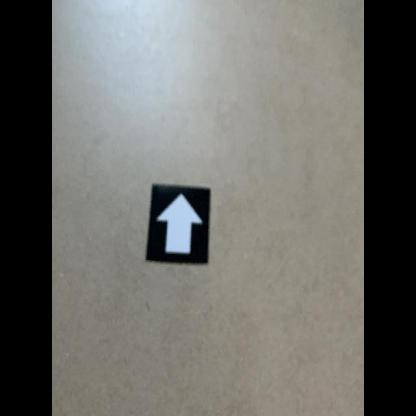up: (144, 180, 212, 267)
